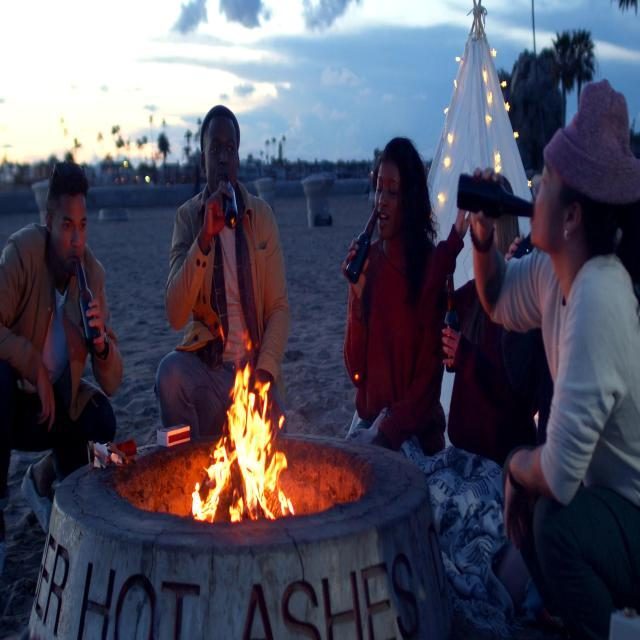Fire: (188, 348, 300, 528)
